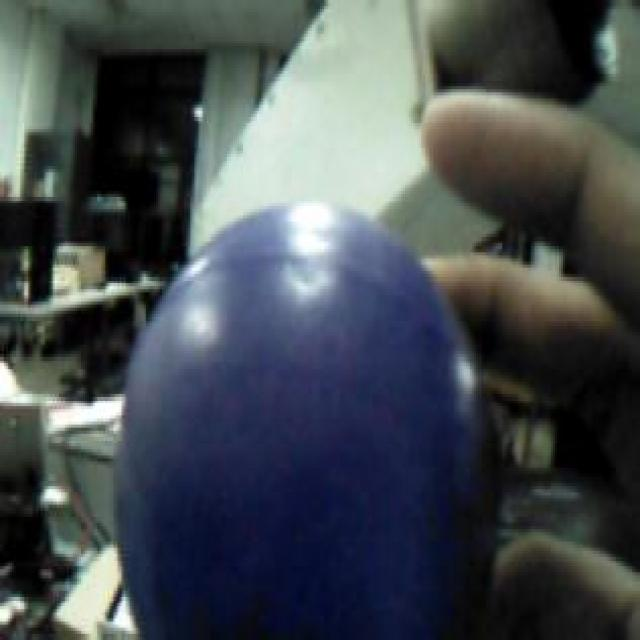BallPurple: (113, 200, 500, 640)
